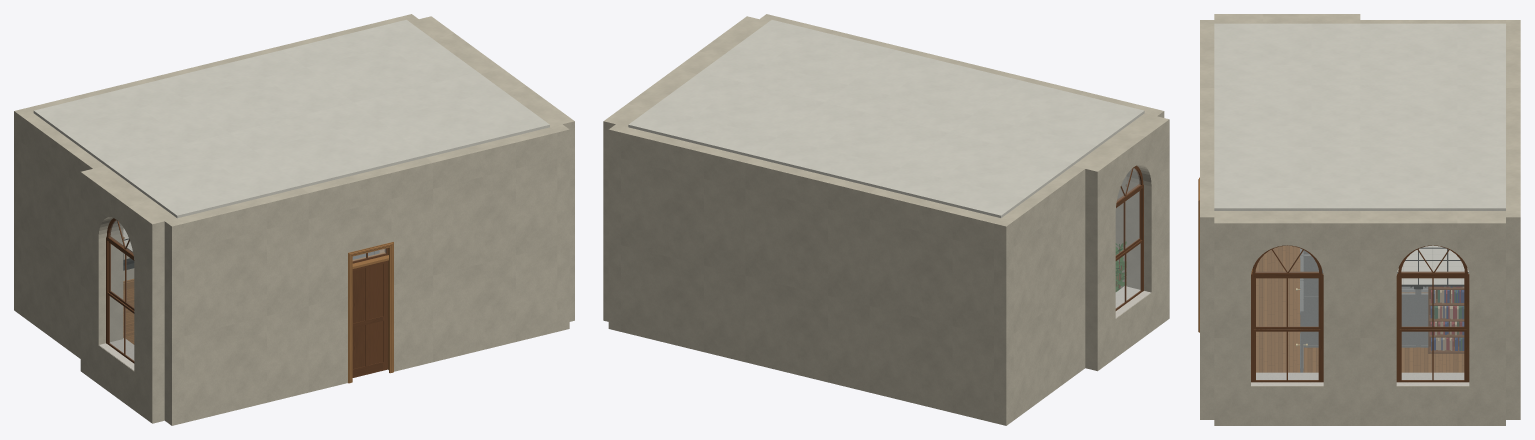
File: X14_DEMO_LRS_Room.glb
The picture shows the model from 3 angles, left to right: view 1: azimuth 30°, elevation 25°; view 2: azimuth 150°, elevation 25°; view 3: azimuth 270°, elevation 25°; orthographic projection.
Visible parts, largest first — view 1: X14_ARCH_Wall_Plain_300_LOD0.s0, X14_ARCH_Wall_Plain_300_LOD0.s2, X14_ARCH_Wall_Door_300_LOD0.s1, X14_ARCH_Wall_Window_300_LOD0.w1, X14_ARCH_Wall_Plain_300_LOD0.w0, X14_ARCH_Ceiling_300_LOD0.c00, X14_ARCH_Ceiling_300_LOD0.c10, X14_ARCH_Ceiling_300_LOD0.c20, X14_ARCH_Ceiling_300_LOD0.c01, X14_ARCH_Ceiling_300_LOD0.c11, X14_ARCH_Ceiling_300_LOD0.c21, X14_ARCH_Corner_LOD0.k0 (+10 smaller); view 2: X14_ARCH_Wall_Plain_300_LOD0.n1, X14_ARCH_Wall_Plain_300_LOD0.n2, X14_ARCH_Wall_Plain_300_LOD0.n0, X14_ARCH_Wall_Window_300_LOD0.w1, X14_ARCH_Wall_Plain_300_LOD0.w0, X14_ARCH_Ceiling_300_LOD0.c01, X14_ARCH_Ceiling_300_LOD0.c21, X14_ARCH_Ceiling_300_LOD0.c11, X14_ARCH_Ceiling_300_LOD0.c00, X14_ARCH_Ceiling_300_LOD0.c10, X14_ARCH_Ceiling_300_LOD0.c20, X14_ARCH_Corner_LOD0.k3 (+7 smaller); view 3: X14_ARCH_Wall_Window_300_LOD0.e0, X14_ARCH_Wall_Window_300_LOD0.e1, X14_ARCH_Ceiling_300_LOD0.c20, X14_ARCH_Ceiling_300_LOD0.c21, X14_ARCH_Ceiling_300_LOD0.c00, X14_ARCH_Ceiling_300_LOD0.c01, X14_ARCH_Ceiling_300_LOD0.c10, X14_ARCH_Ceiling_300_LOD0.c11, X14_ARCH_Wall_Window_300_Glass_LOD0.e0, X14_ARCH_Wall_Window_300_Glass_LOD0.e1, X14_ARCH_Corner_LOD0.k1, X14_ARCH_Corner_LOD0.k2 (+19 smaller).
Boxes of the visible parts, box(x1,y1,x2,y2) form: X14_ARCH_Wall_Plain_300_LOD0.s0: box(177, 188, 308, 422); X14_ARCH_Wall_Plain_300_LOD0.s2: box(426, 127, 557, 362); X14_ARCH_Wall_Door_300_LOD0.s1: box(302, 157, 432, 392); X14_ARCH_Wall_Window_300_LOD0.w1: box(80, 166, 176, 423); X14_ARCH_Wall_Plain_300_LOD0.w0: box(21, 113, 104, 358); X14_ARCH_Ceiling_300_LOD0.c00: box(105, 133, 301, 218); X14_ARCH_Ceiling_300_LOD0.c10: box(230, 102, 425, 187); X14_ARCH_Ceiling_300_LOD0.c20: box(354, 72, 549, 157); X14_ARCH_Ceiling_300_LOD0.c01: box(33, 80, 229, 165); X14_ARCH_Ceiling_300_LOD0.c11: box(158, 50, 353, 132); X14_ARCH_Ceiling_300_LOD0.c21: box(282, 19, 477, 102); X14_ARCH_Corner_LOD0.k0: box(164, 218, 184, 425); X14_ARCH_Wall_Plain_300_LOD0.n1: box(745, 157, 876, 392); X14_ARCH_Wall_Plain_300_LOD0.n2: box(869, 188, 1000, 422); X14_ARCH_Wall_Plain_300_LOD0.n0: box(621, 127, 751, 361); X14_ARCH_Wall_Window_300_LOD0.w1: box(1073, 113, 1169, 371); X14_ARCH_Wall_Plain_300_LOD0.w0: box(1001, 166, 1085, 420); X14_ARCH_Ceiling_300_LOD0.c01: box(877, 133, 1072, 217); X14_ARCH_Ceiling_300_LOD0.c21: box(628, 72, 823, 157); X14_ARCH_Ceiling_300_LOD0.c11: box(752, 102, 948, 187); X14_ARCH_Ceiling_300_LOD0.c00: box(949, 80, 1144, 165); X14_ARCH_Ceiling_300_LOD0.c10: box(824, 50, 1019, 132); X14_ARCH_Ceiling_300_LOD0.c20: box(700, 20, 895, 102); X14_ARCH_Corner_LOD0.k3: box(994, 218, 1013, 425); X14_ARCH_Wall_Window_300_LOD0.e0: box(1214, 211, 1360, 425); X14_ARCH_Wall_Window_300_LOD0.e1: box(1360, 211, 1505, 425); X14_ARCH_Ceiling_300_LOD0.c20: box(1214, 147, 1360, 210); X14_ARCH_Ceiling_300_LOD0.c21: box(1360, 147, 1505, 210); X14_ARCH_Ceiling_300_LOD0.c00: box(1214, 23, 1360, 85); X14_ARCH_Ceiling_300_LOD0.c01: box(1360, 23, 1505, 85); X14_ARCH_Ceiling_300_LOD0.c10: box(1214, 85, 1360, 146); X14_ARCH_Ceiling_300_LOD0.c11: box(1360, 85, 1505, 146); X14_ARCH_Wall_Window_300_Glass_LOD0.e0: box(1256, 246, 1318, 379); X14_ARCH_Wall_Window_300_Glass_LOD0.e1: box(1401, 246, 1464, 379); X14_ARCH_Corner_LOD0.k1: box(1200, 211, 1214, 419); X14_ARCH_Corner_LOD0.k2: box(1506, 211, 1520, 419).
Size of what is drawn, in the model's own units: 10.2 by 4.66 by 6.63.
Materials: 34 (15 with a texture image).
